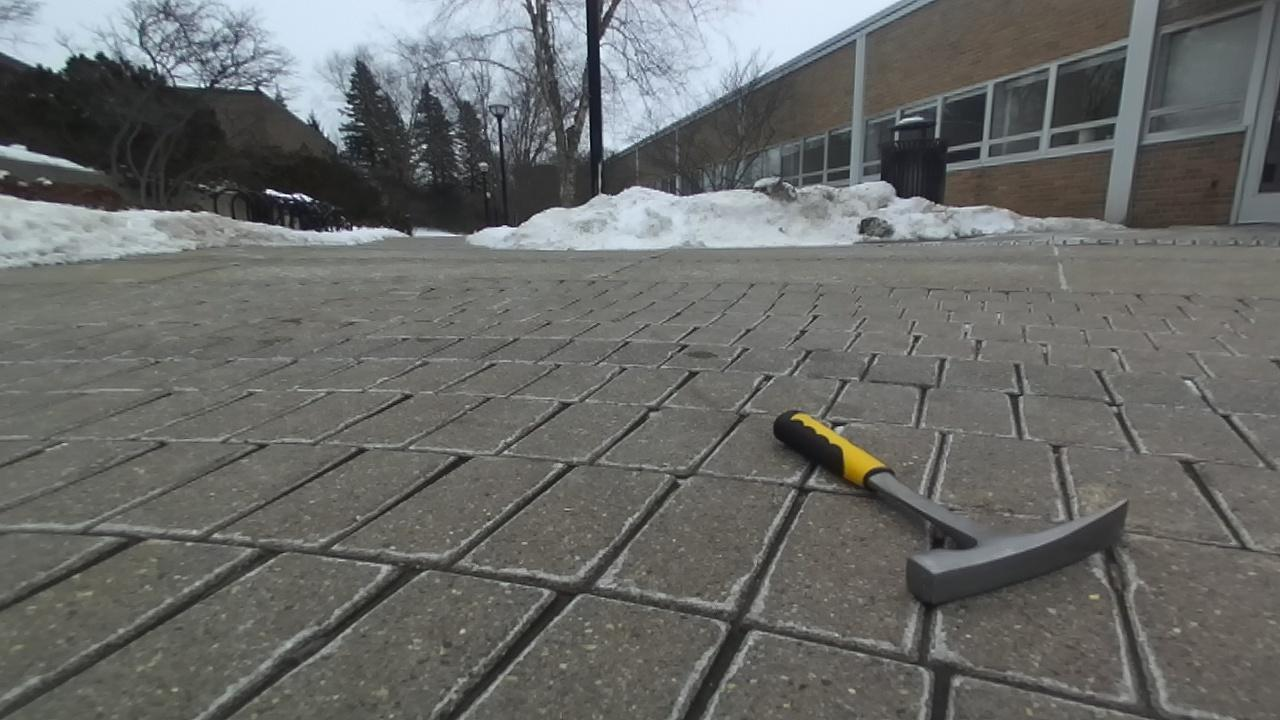pick: (774, 411, 1126, 603)
